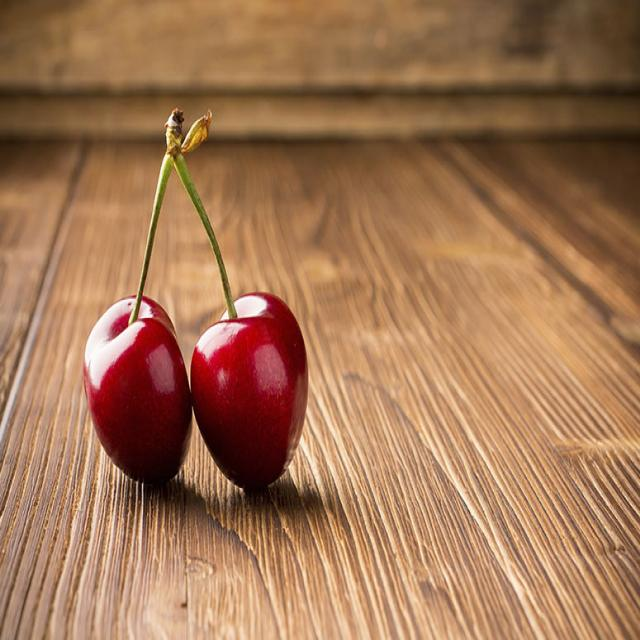cherry: (85, 109, 312, 487), (191, 109, 308, 483), (84, 113, 192, 486)
